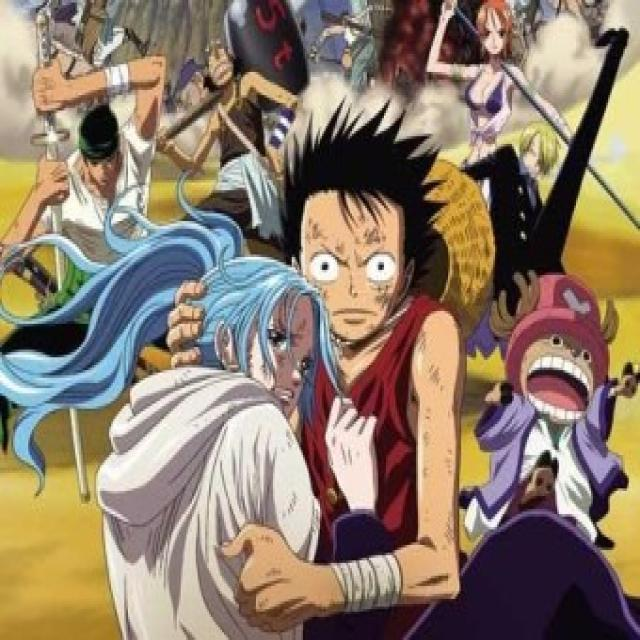Chyopa: (485, 264, 627, 422)
Luffy: (288, 113, 450, 349)
Nami: (474, 3, 520, 66)
Usopp: (196, 30, 250, 101)
Zoro: (68, 92, 131, 198)
